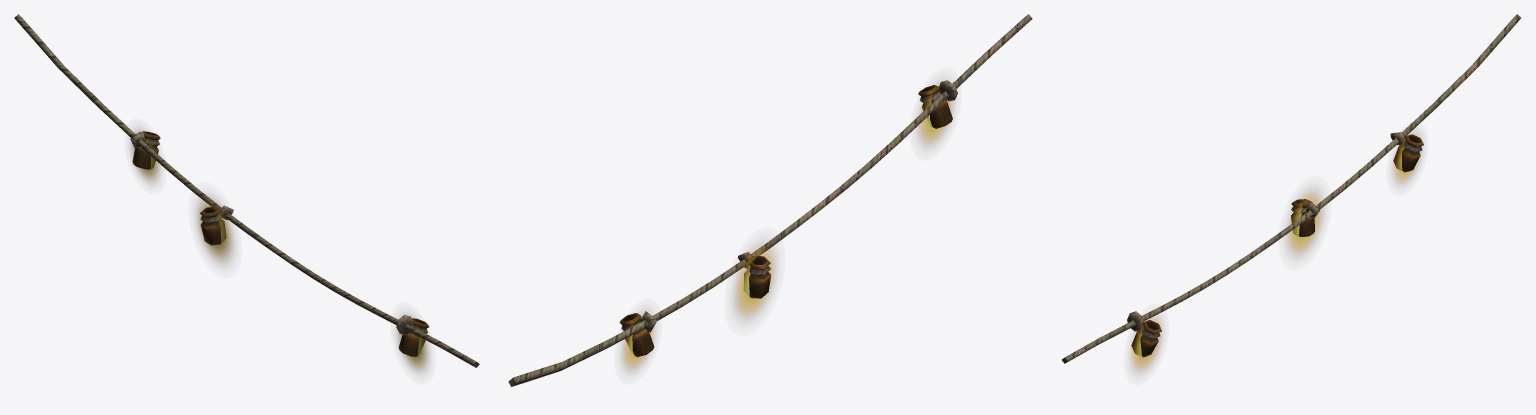
The picture shows the model from 3 angles, left to right: view 1: azimuth 30°, elevation 25°; view 2: azimuth 150°, elevation 25°; view 3: azimuth 330°, elevation 25°; orthographic projection. The views are drawn at different scales.
Bounding box in the file's own units: 0.5376 × 1.24 × 9.5.
3 materials, 3 textured.
